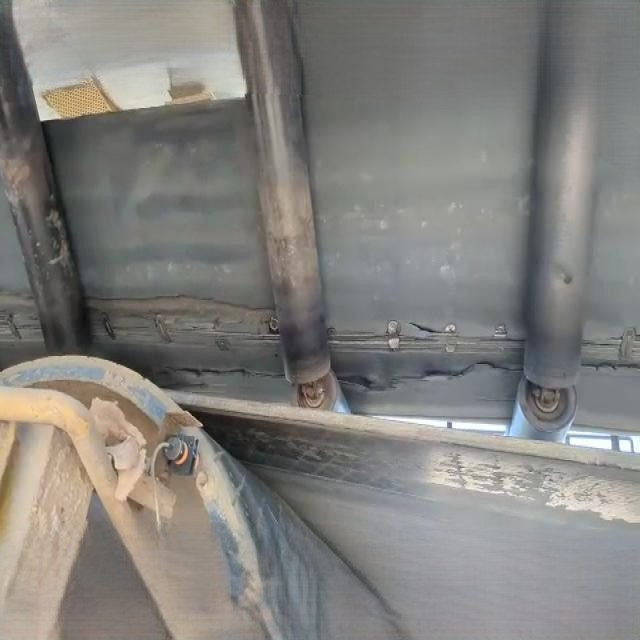Tear: (76, 290, 294, 384), (328, 319, 530, 398), (577, 319, 640, 379)
